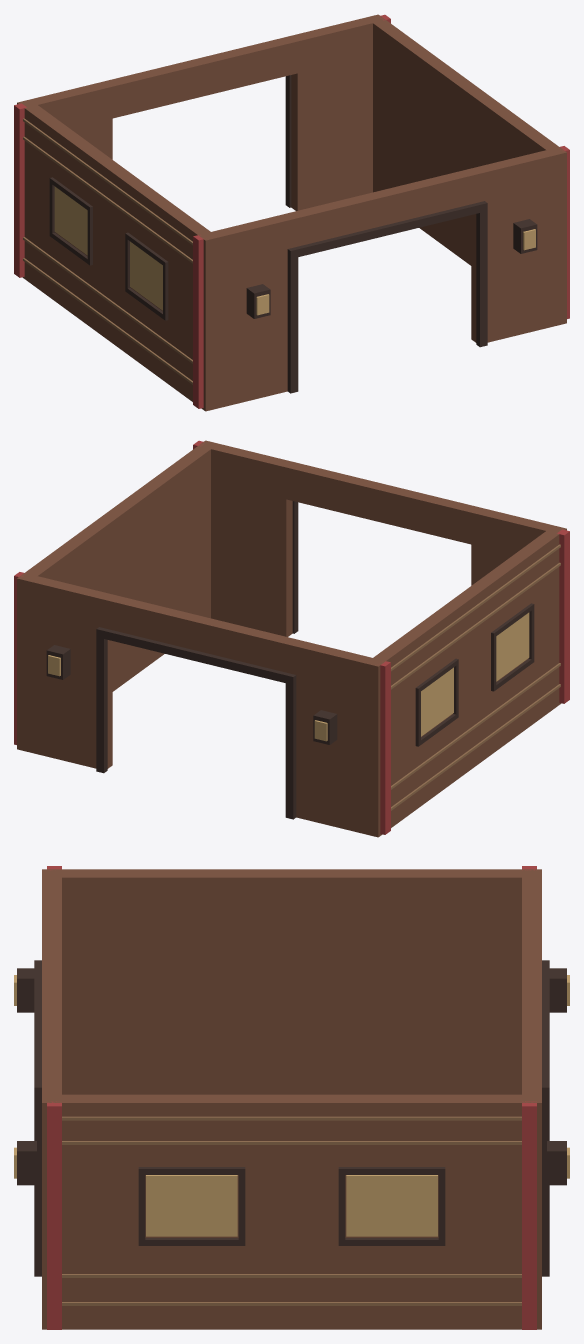
File: Frosty_LodgeGatehouse_Showcase.glb
3 views of the same model, one above another, from view 1: azimuth 30°, elevation 25°; view 2: azimuth 150°, elevation 25°; view 3: azimuth 270°, elevation 25° (orthographic). The views are drawn at different scales.
Parts seen in each view (by area): view 1: Frosty_LodgeGatehouse_Showcase; view 2: Frosty_LodgeGatehouse_Showcase; view 3: Frosty_LodgeGatehouse_Showcase.
Part boxes in pixels (x1,y1,x2,y2): Frosty_LodgeGatehouse_Showcase: [14, 14, 569, 411]; Frosty_LodgeGatehouse_Showcase: [14, 440, 569, 837]; Frosty_LodgeGatehouse_Showcase: [14, 866, 569, 1329].
Size of the model in its own units: 6.82 by 3 by 6.67.
